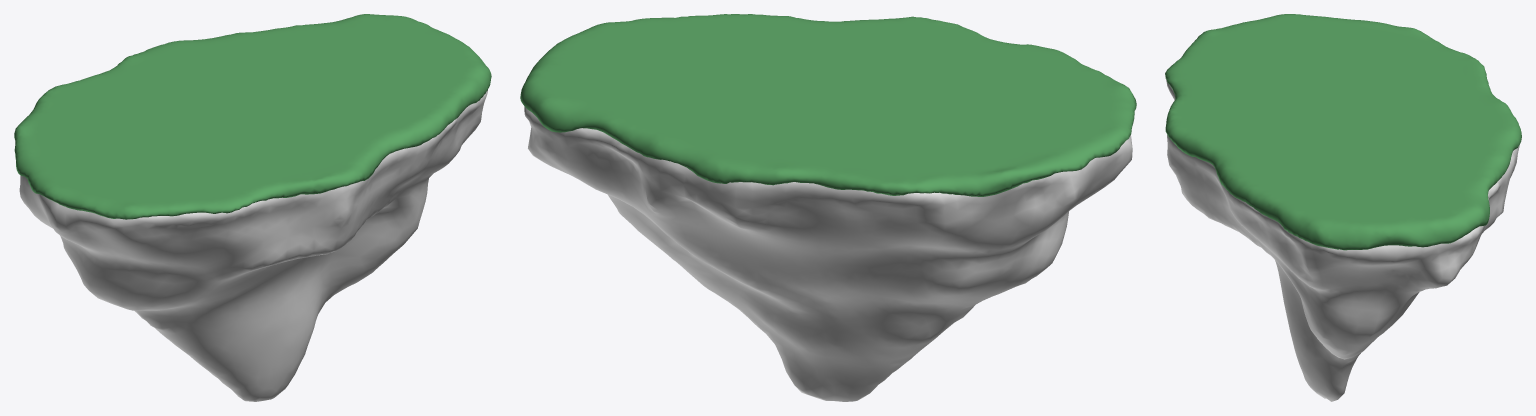
File: IslandsLong1Flat.fbx
3 renders of one model, left to right at view 1: azimuth 30°, elevation 25°; view 2: azimuth 150°, elevation 25°; view 3: azimuth 270°, elevation 25°, orthographic. The views are drawn at different scales.
Parts seen in each view (by area): view 1: IslandLong1TopFlat, IslandLong1BottomFlat; view 2: IslandLong1TopFlat, IslandLong1BottomFlat; view 3: IslandLong1TopFlat, IslandLong1BottomFlat.
Part boxes in pixels (box(x1,y1,x2,y2)): IslandLong1TopFlat: box(14, 14, 491, 219); IslandLong1BottomFlat: box(19, 90, 487, 401); IslandLong1TopFlat: box(520, 14, 1136, 196); IslandLong1BottomFlat: box(524, 106, 1132, 401); IslandLong1TopFlat: box(1165, 14, 1521, 250); IslandLong1BottomFlat: box(1166, 79, 1519, 401).
Size of the model in its own units: 3348 by 1942 by 2291.
